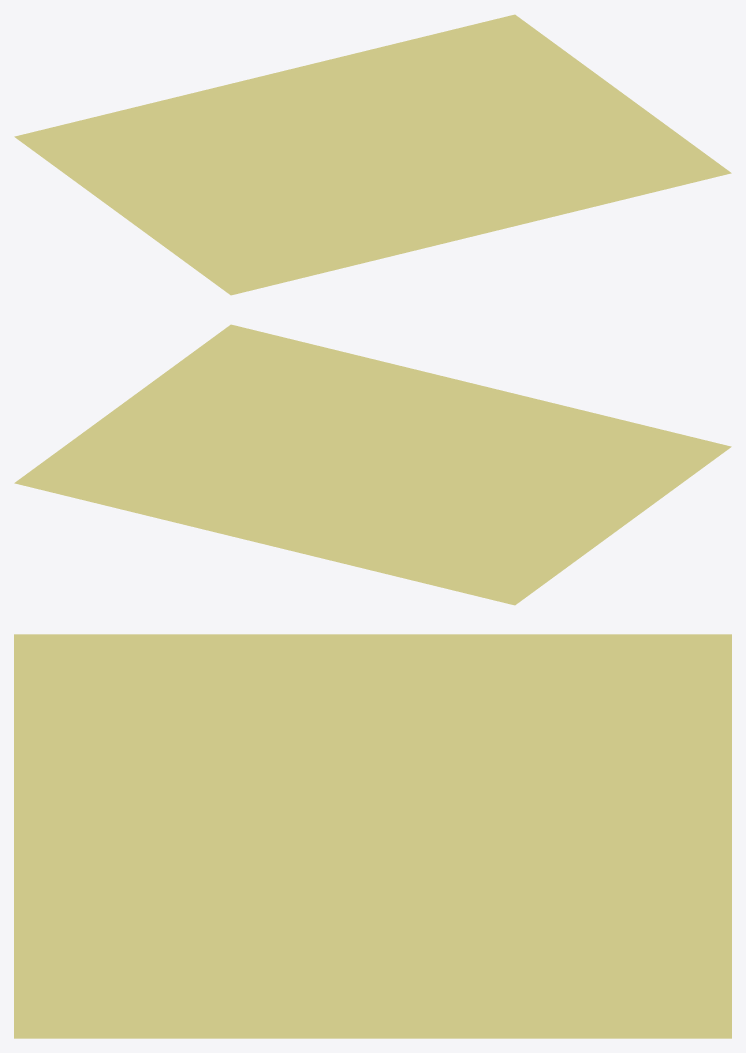
The model's file is Ceiling_4x_3x.FBX.
3 renders of one model, top to bottom at view 1: azimuth 30°, elevation 25°; view 2: azimuth 150°, elevation 25°; view 3: azimuth 270°, elevation 25°, orthographic. The views are drawn at different scales.
Parts seen in each view (by area): view 1: Ceiling_4x_3x; view 2: Ceiling_4x_3x; view 3: Ceiling_4x_3x.
Part boxes in pixels (x1,y1,x2,y2): Ceiling_4x_3x: [14, 14, 731, 295]; Ceiling_4x_3x: [14, 324, 731, 605]; Ceiling_4x_3x: [14, 634, 731, 1038].
Size of the model in its own units: 400 by 300 by 2.84e-05.
